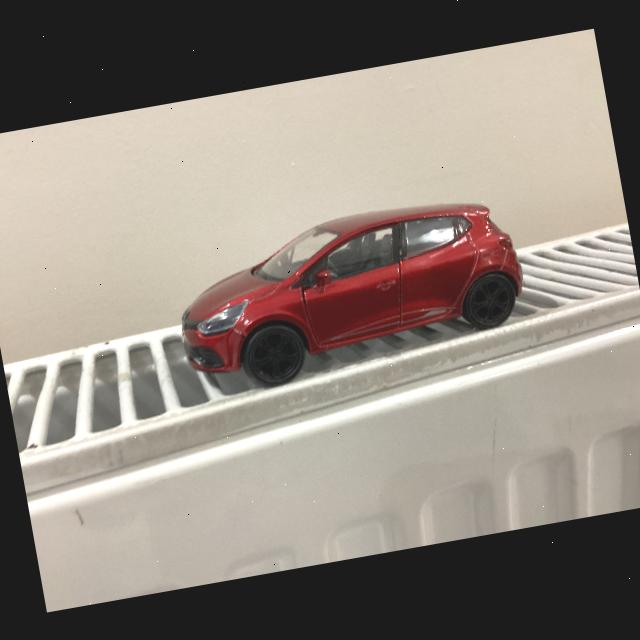Dogru_Jant: (244, 325, 305, 385), (462, 273, 516, 329)
